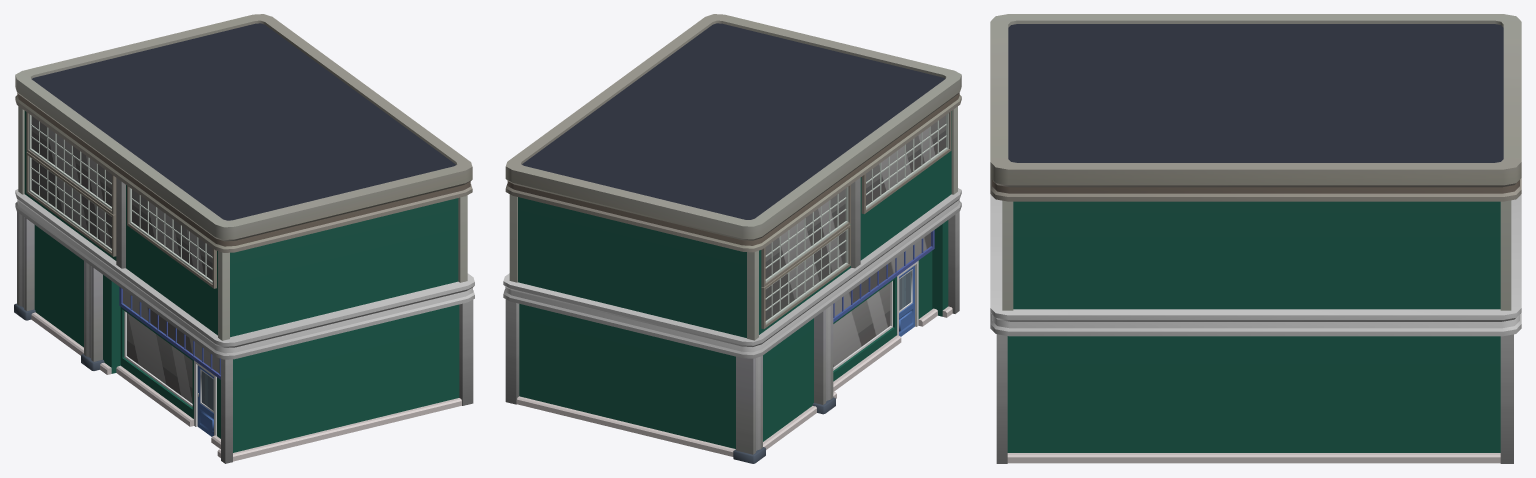
The model's file is Building_11_3_D.fbx.
The picture shows the model from 3 angles, left to right: view 1: azimuth 30°, elevation 25°; view 2: azimuth 150°, elevation 25°; view 3: azimuth 270°, elevation 25°; orthographic projection. The views are drawn at different scales.
Parts seen in each view (by area): view 1: Building_11_3_D; view 2: Building_11_3_D; view 3: Building_11_3_D.
Part boxes in pixels (x1,y1,x2,y2): Building_11_3_D: [14, 14, 474, 463]; Building_11_3_D: [503, 14, 961, 463]; Building_11_3_D: [990, 14, 1521, 463].
Bounding box in the file's own units: 814 × 715 × 1163.
